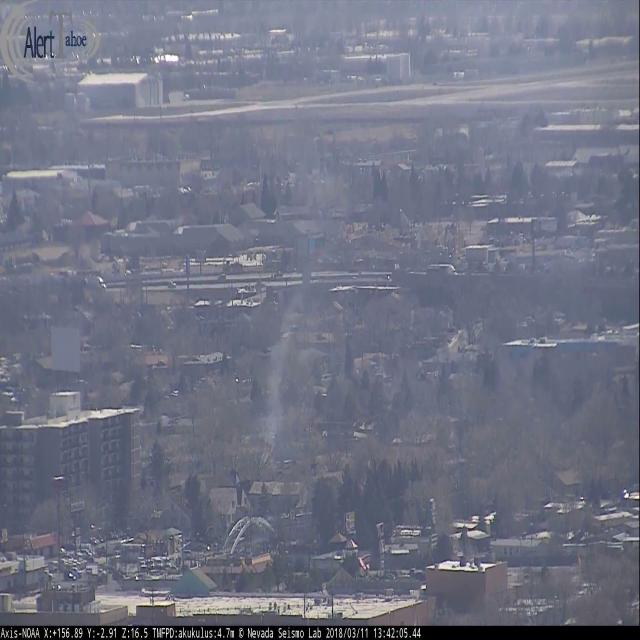smoke: (249, 155, 344, 465)
